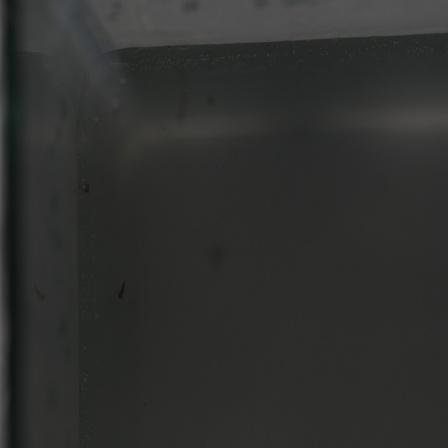Jentik-Nyamuk: (111, 276, 131, 297)
